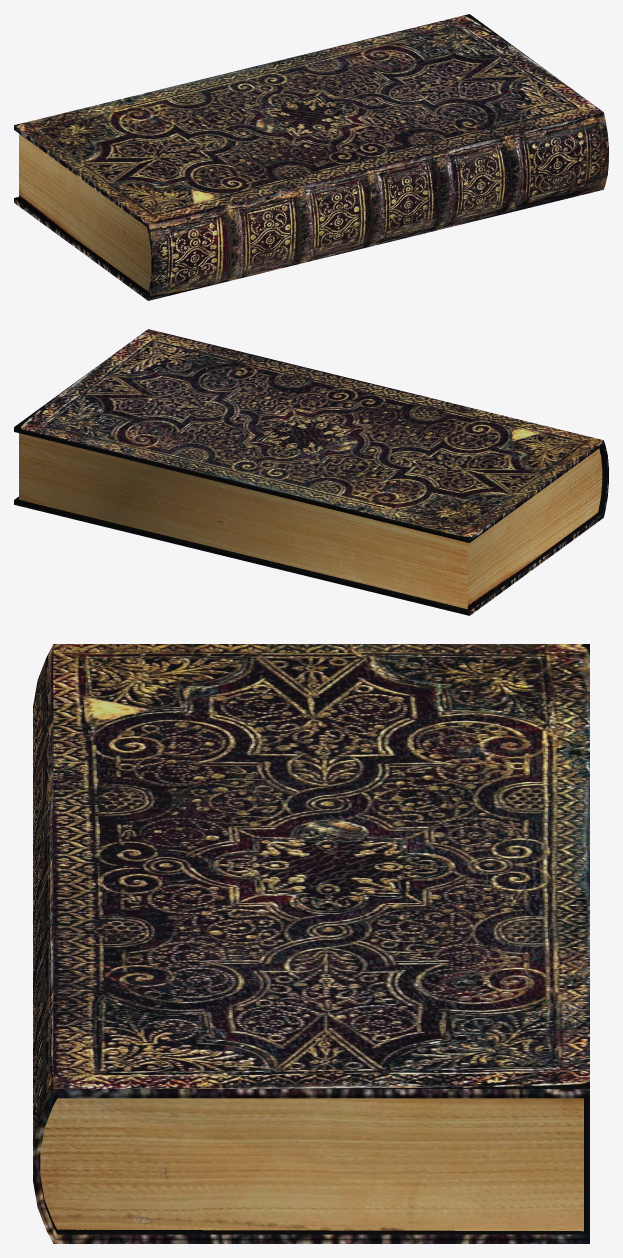
File: Book_7.obj
3 renders of one model, top to bottom at view 1: azimuth 30°, elevation 25°; view 2: azimuth 150°, elevation 25°; view 3: azimuth 270°, elevation 25°, orthographic. The views are drawn at different scales.
Visible parts, largest first — view 1: Book.002_Cube.007; view 2: Book.002_Cube.007; view 3: Book.002_Cube.007.
Boxes of the visible parts, box(x1,y1,x2,y2) form: Book.002_Cube.007: box(14, 14, 608, 300); Book.002_Cube.007: box(14, 329, 608, 615); Book.002_Cube.007: box(33, 644, 589, 1243).
Bounding box in the file's own units: 2.66 × 0.4333 × 1.41.
